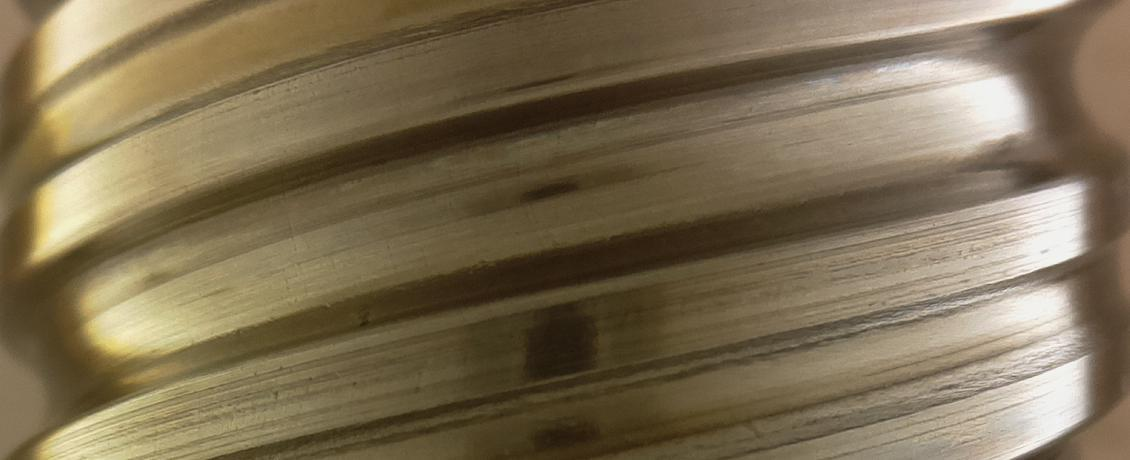pitting: (358, 311, 372, 327)
